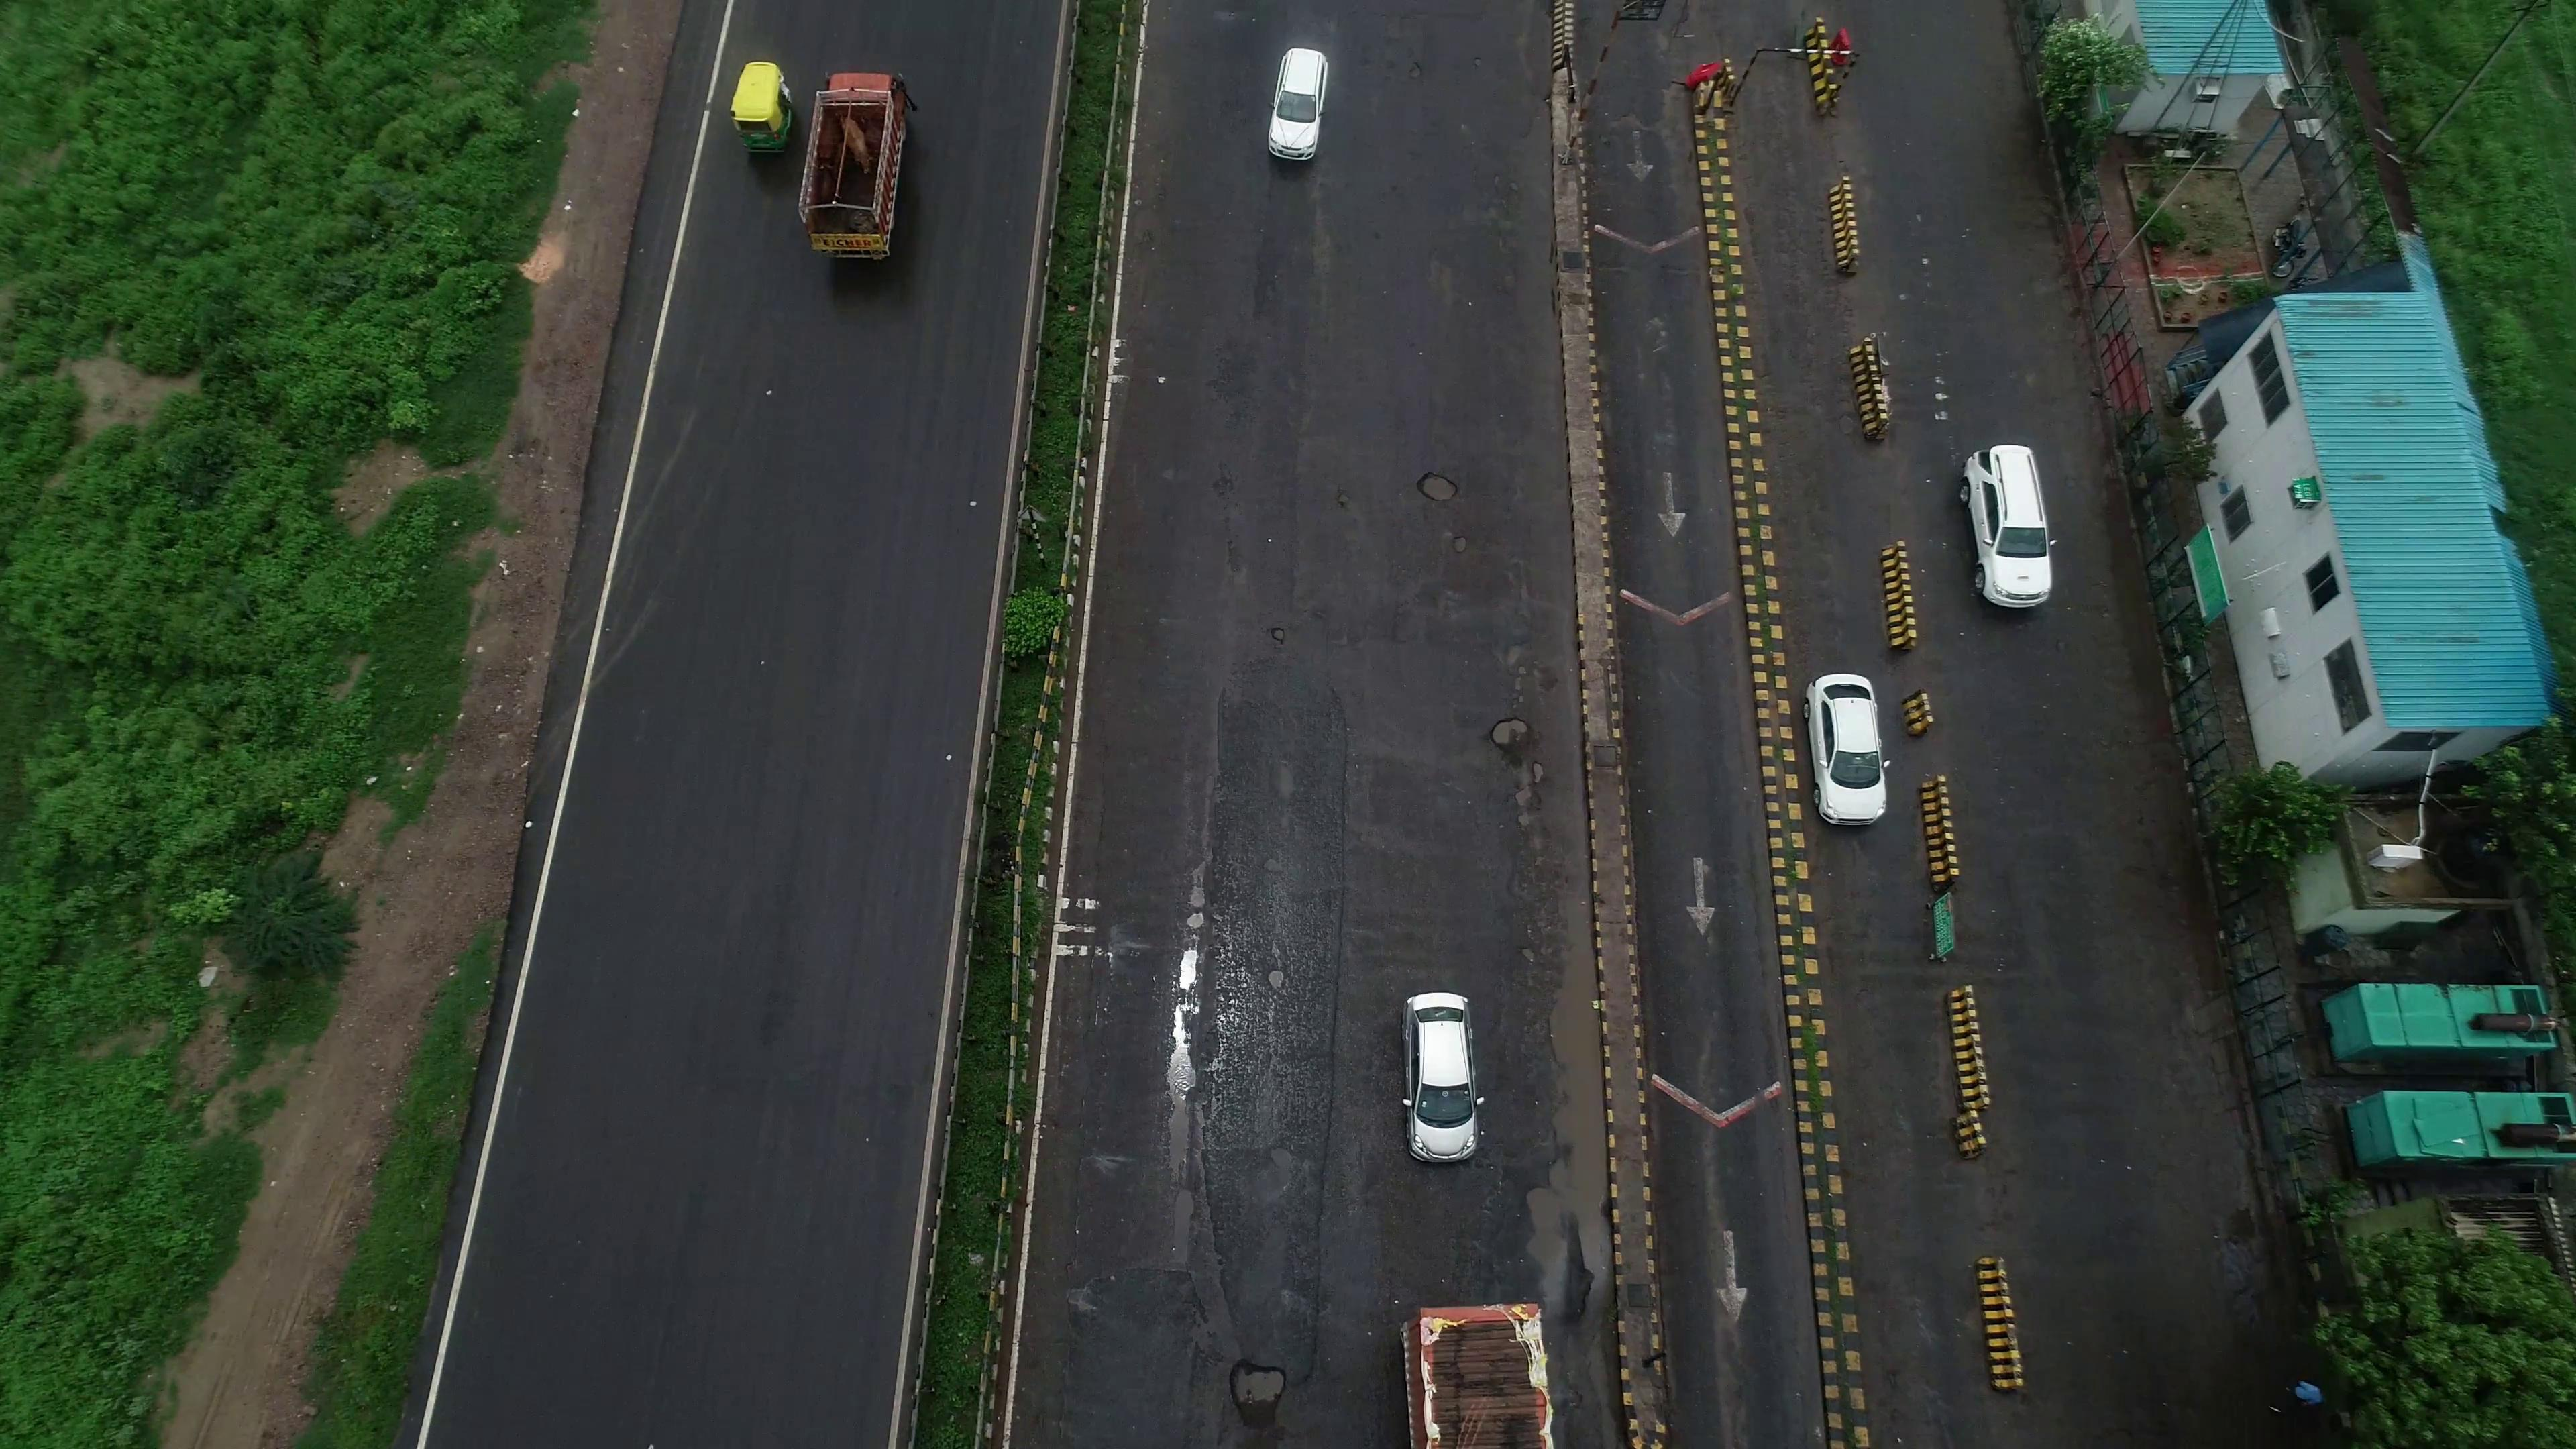Potholes: (1182, 860, 1318, 1017), (1449, 692, 1560, 846), (1391, 428, 1493, 573), (1166, 1350, 1345, 1431), (1235, 609, 1348, 694)
